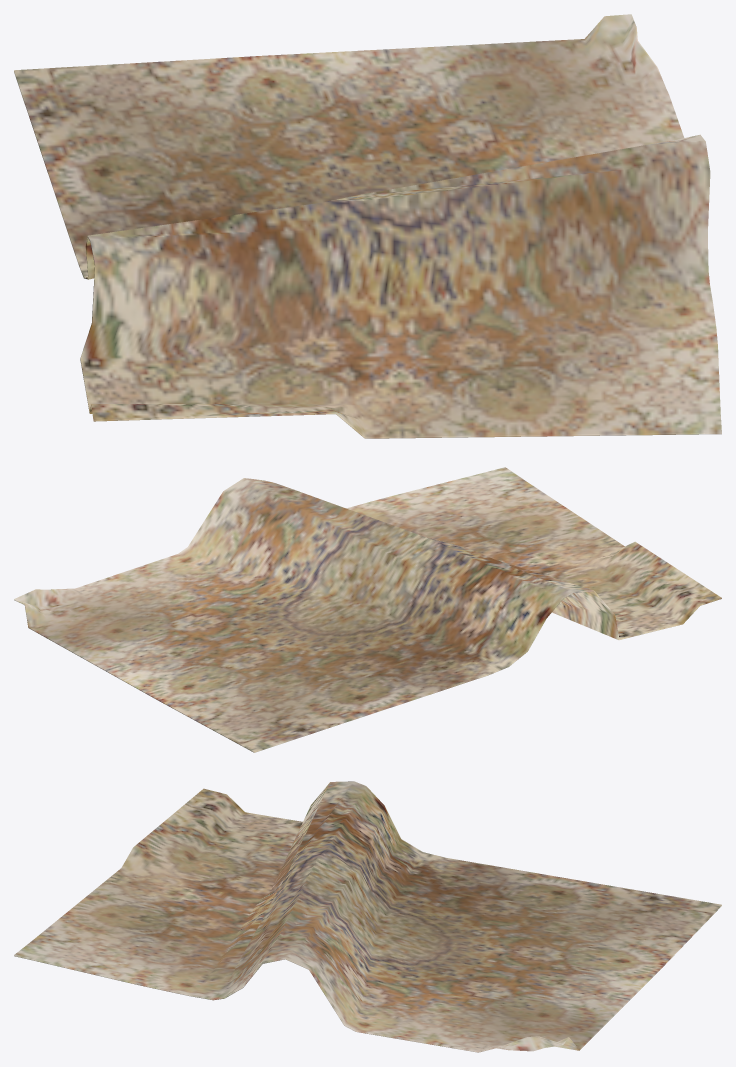
Rendered from TEXTURED CARPET.fbx.
3 views of the same model, one above another, from view 1: azimuth 30°, elevation 25°; view 2: azimuth 150°, elevation 25°; view 3: azimuth 270°, elevation 25° (orthographic). The views are drawn at different scales.
Visible parts, largest first — view 1: polySurface1; view 2: polySurface1; view 3: polySurface1.
Boxes of the visible parts, x1,y1,x2,y2 form: polySurface1: (14,14,721,438); polySurface1: (14,467,721,752); polySurface1: (14,781,721,1052).
Size of the model in its own units: 4.94 by 0.5299 by 5.74.
